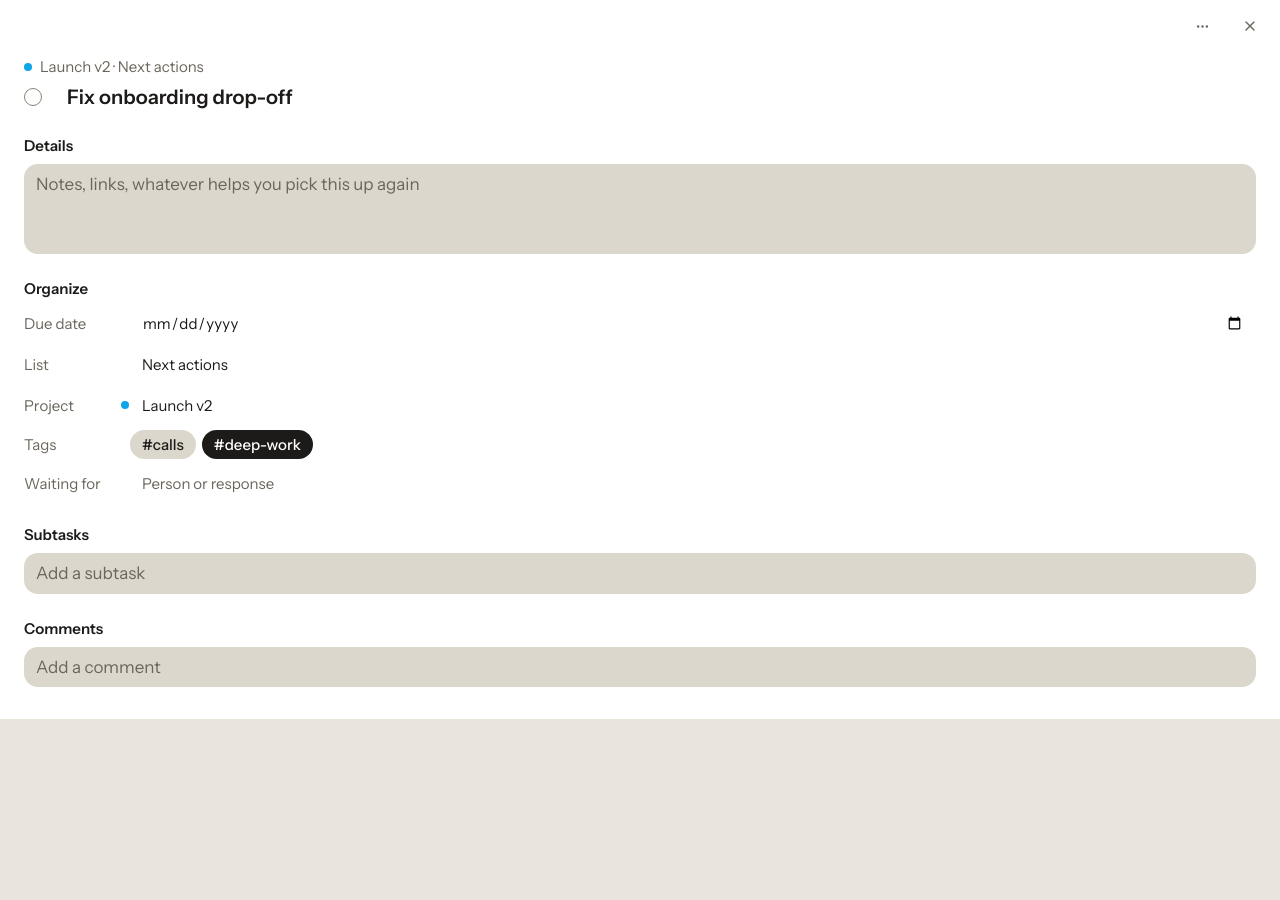
Test: TaskDetailPanel chrome › opens the overflow menu, cancels the task from it, and closes it again on a second click
Click the button named "Task menu".
click(1202, 26)  # box top-left (1180, 4), bottom-right (1224, 48)
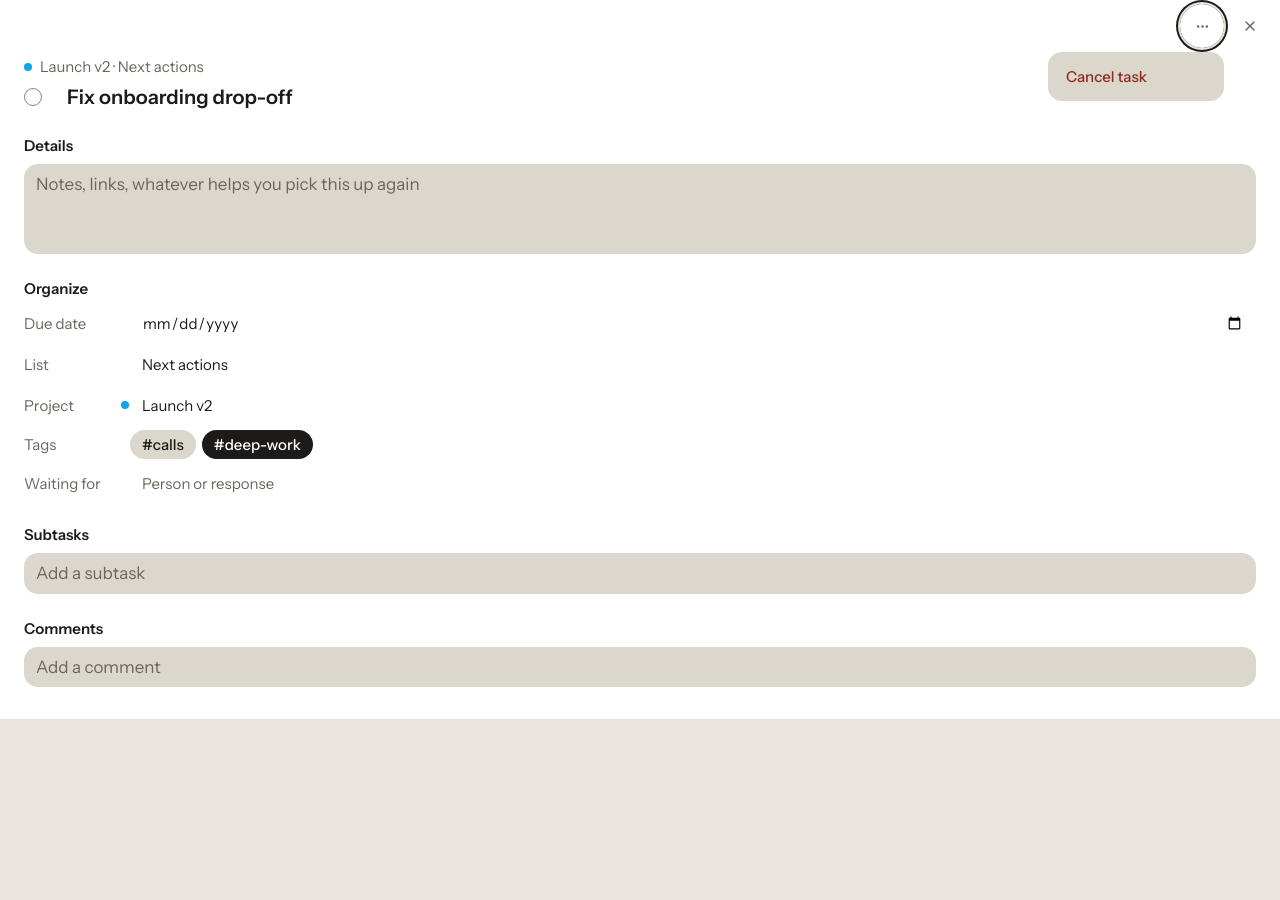
Now the button named "Task menu" is expanded
Click the button named "Task menu".
click(1202, 26)  # box top-left (1180, 4), bottom-right (1224, 48)
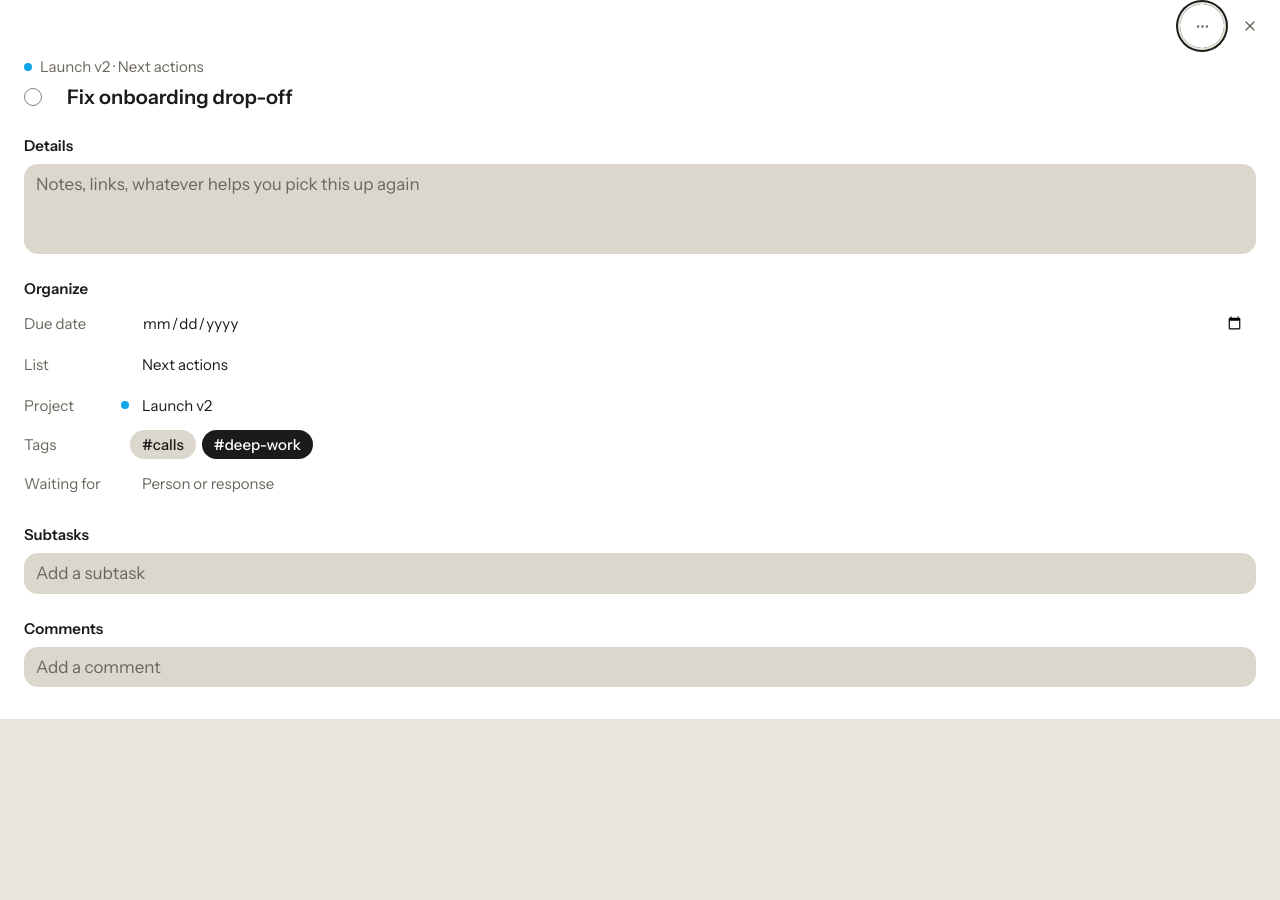
Now the button "Cancel task" is gone
Click the button named "Task menu".
click(1202, 26)  # box top-left (1180, 4), bottom-right (1224, 48)
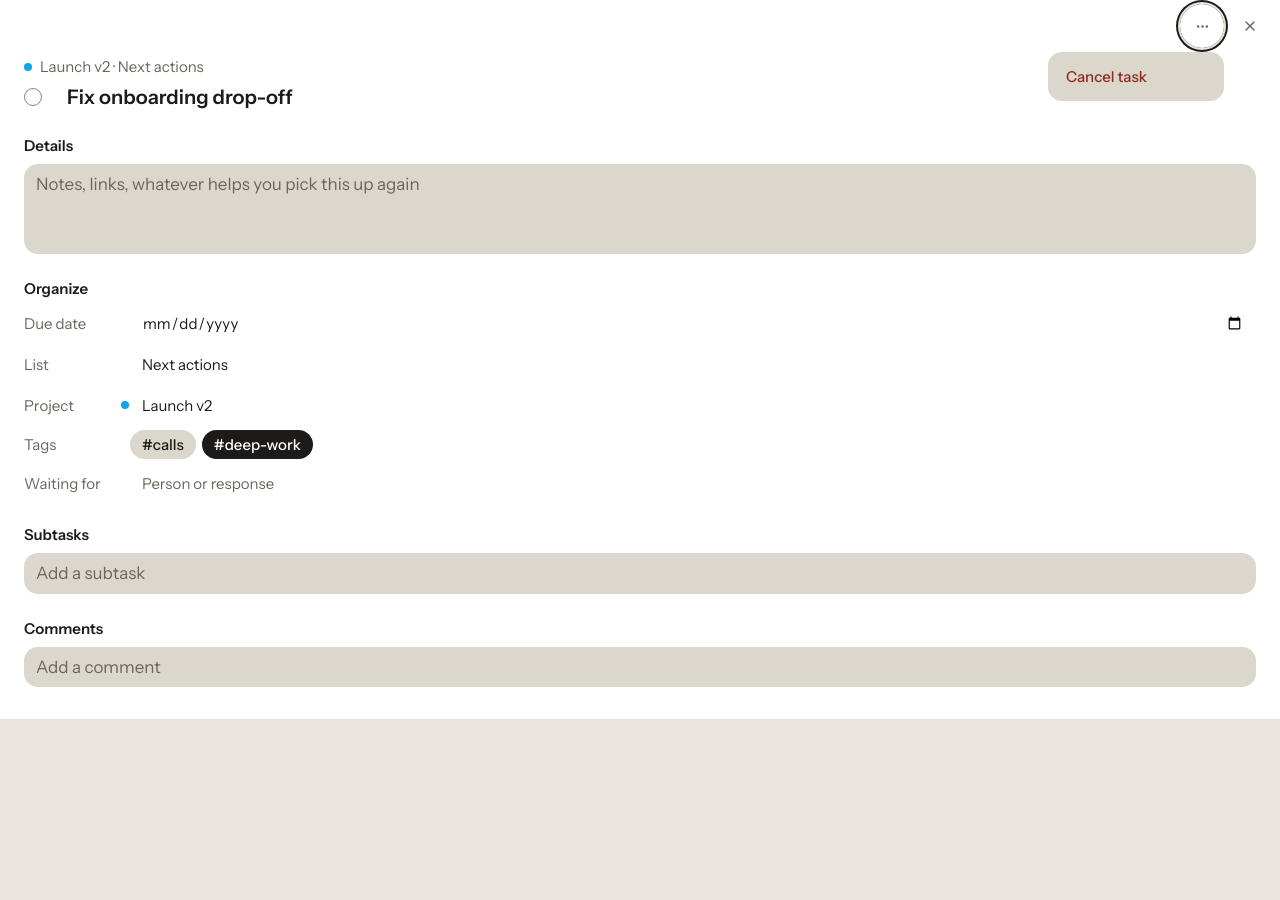
Click the button "Cancel task".
click(1136, 76)  # box top-left (1054, 58), bottom-right (1218, 95)
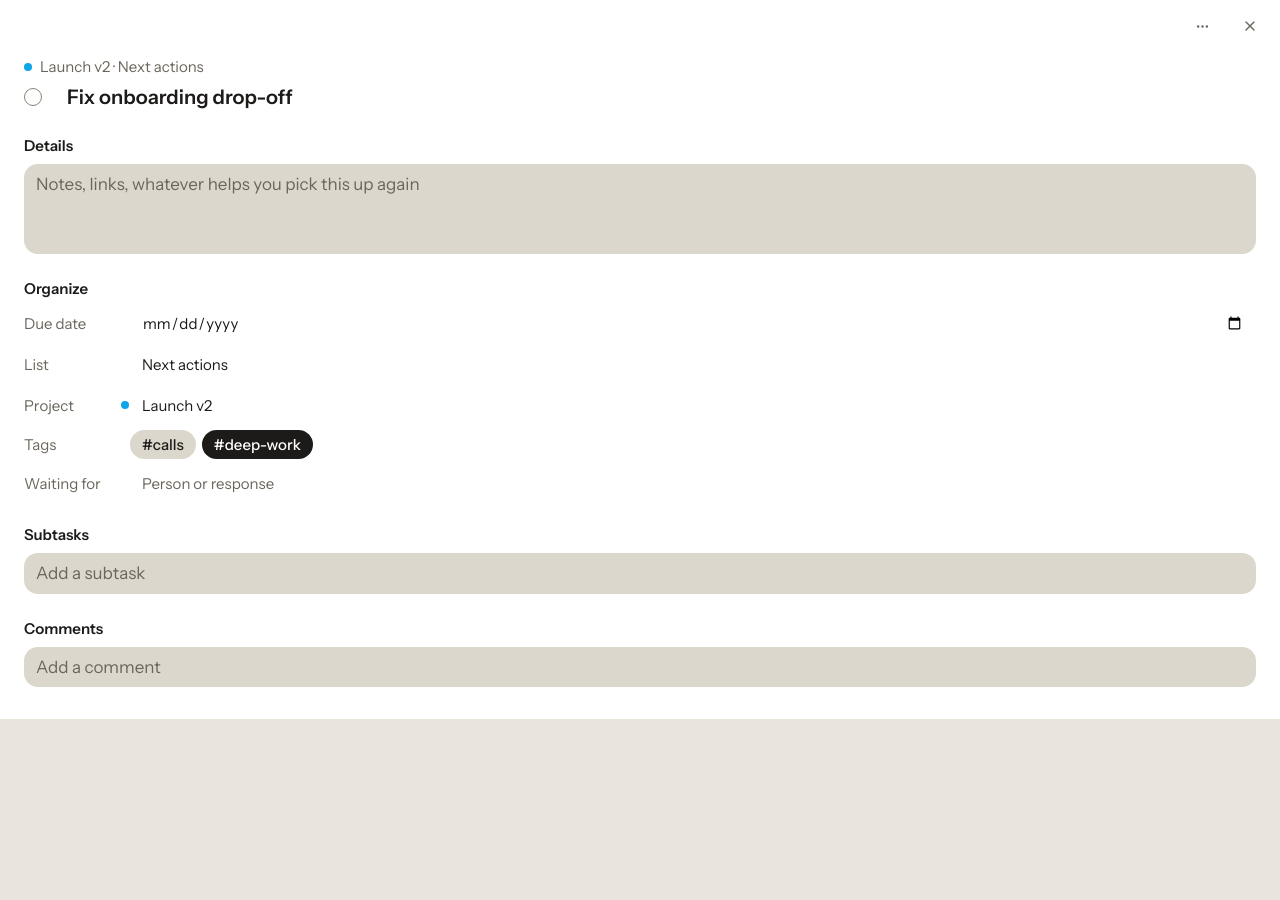
Now the button "Cancel task" is gone
